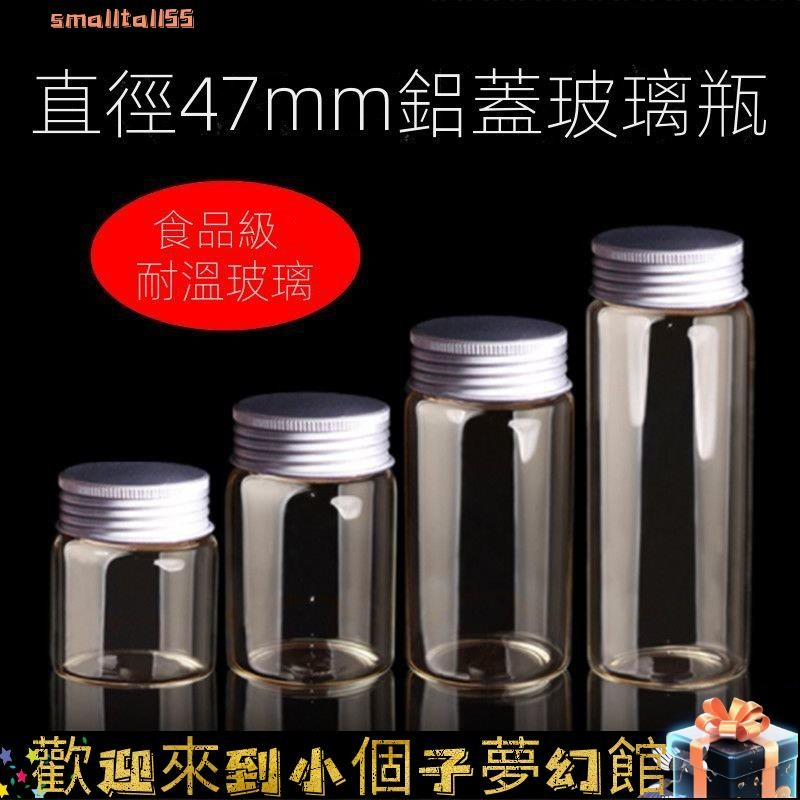medicinejar: (587, 227, 752, 692), (412, 316, 586, 689), (230, 379, 395, 695), (43, 459, 223, 687)
